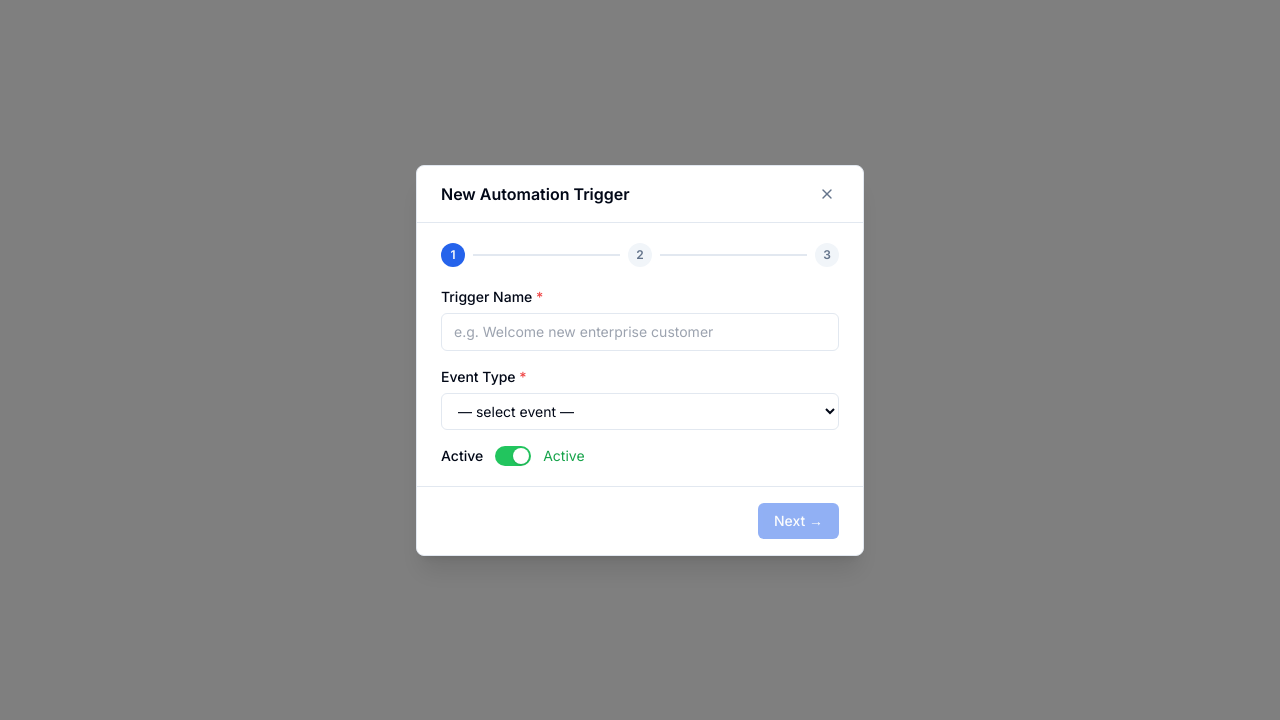
CreateTriggerModal › remove button deletes a condition row
Type "My Trigger" into the field labelled "Trigger Name *" at (640, 332), box [441,312,839,350]
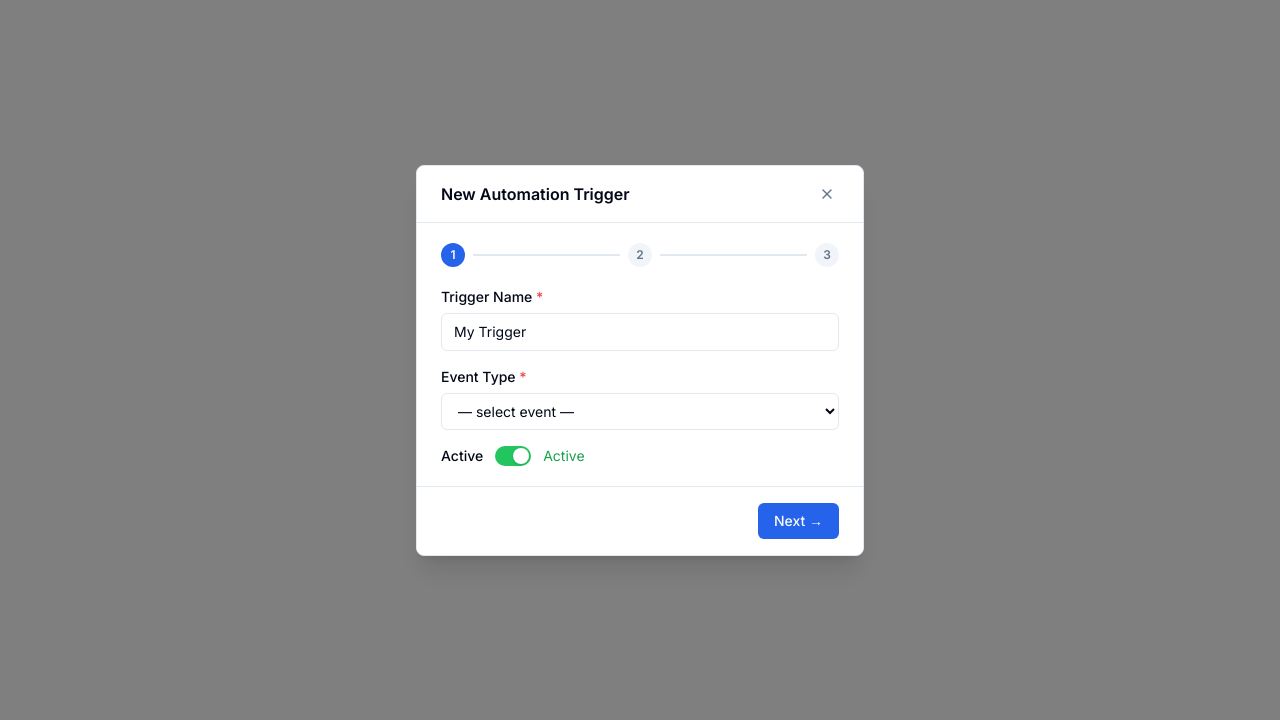
Click the button "Next →" at (798, 520), box [758,502,839,538]
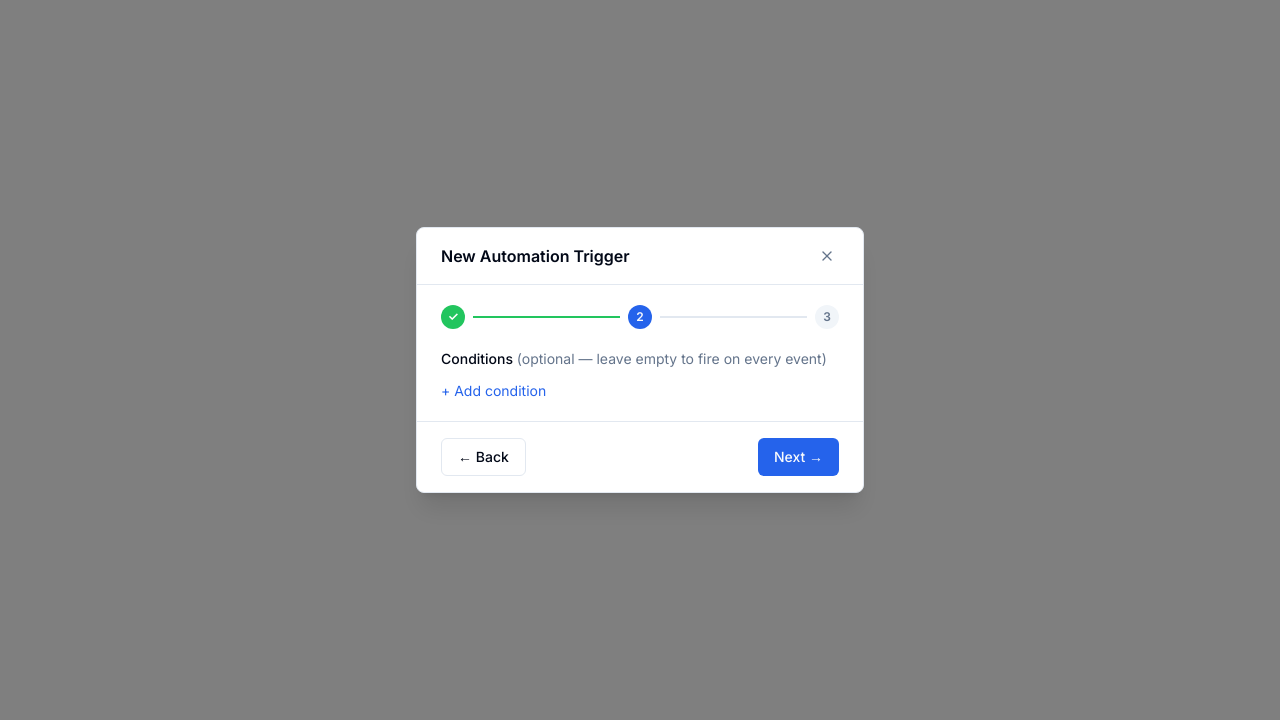
Click the button "+ Add condition" at (494, 391), box [441,381,546,401]
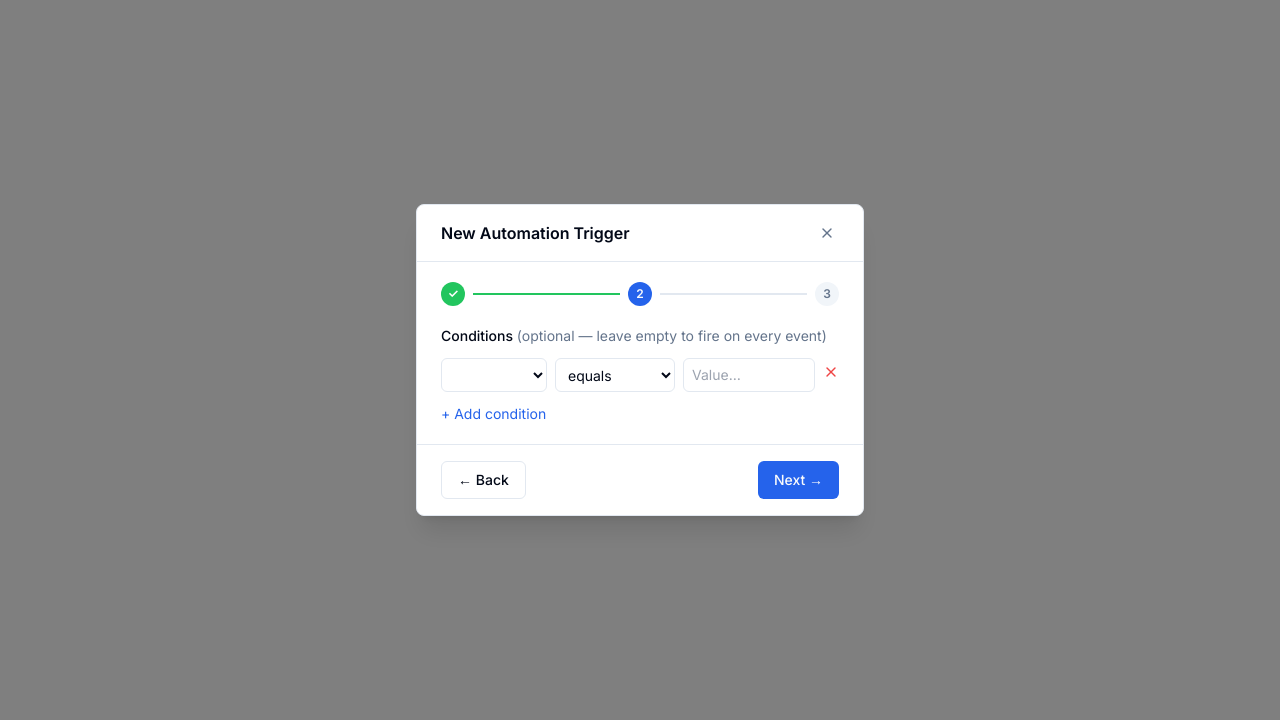
Click the button named "remove condition" at (831, 372), box [823,364,839,380]
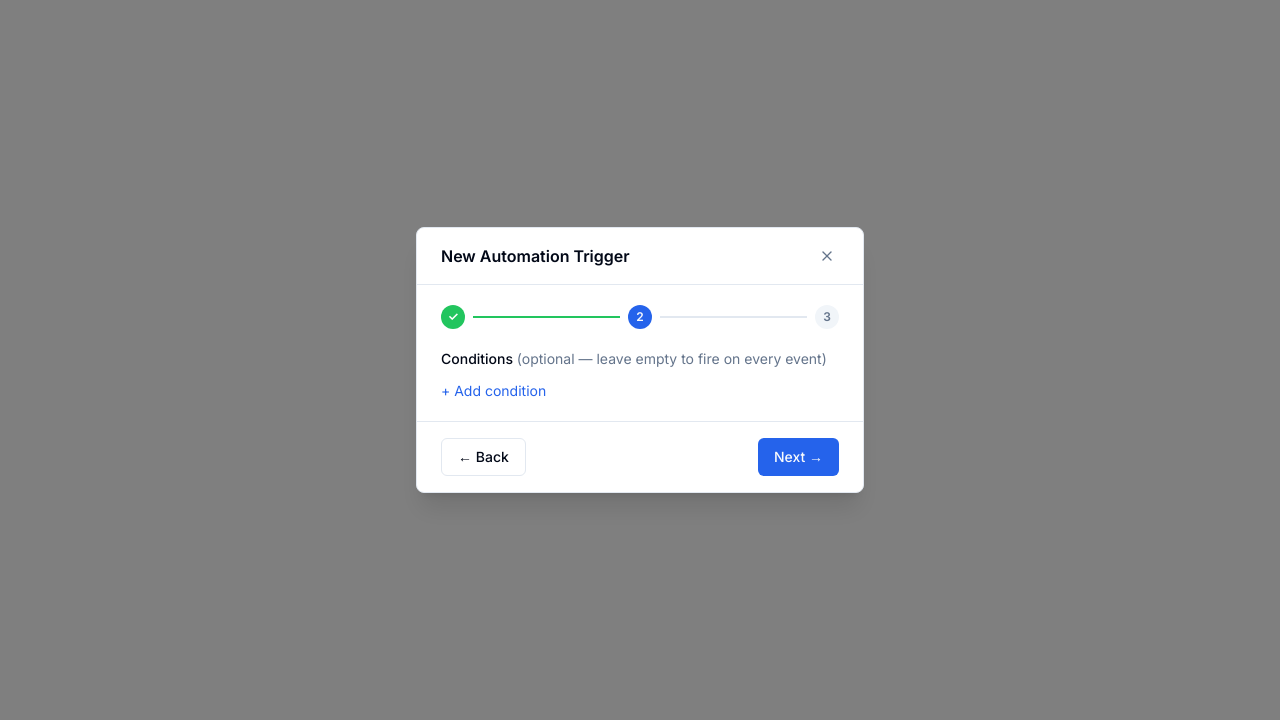
Result: the dropdown labelled "attribute" is gone
